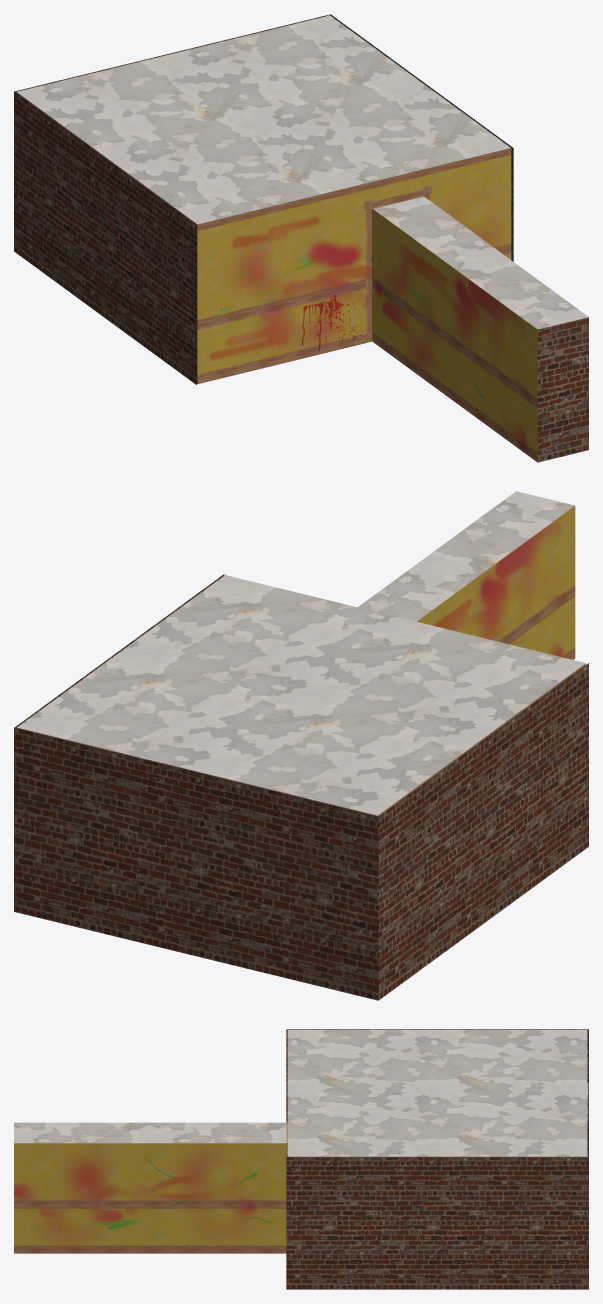
File: roomv.fbx
3 renders of one model, top to bottom at view 1: azimuth 30°, elevation 25°; view 2: azimuth 150°, elevation 25°; view 3: azimuth 270°, elevation 25°, orthographic. The views are drawn at different scales.
Visible parts, largest first — view 1: Material2, Material2.002, Material2.003, Material3.003; view 2: Material2.002, Material2, Material3.003; view 3: Material2, Material2.002, Material3.004, Material3.003.
Boxes of the visible parts, bbox=[...] form: Material2: bbox=[17, 15, 588, 329]; Material2.002: bbox=[14, 14, 588, 462]; Material2.003: bbox=[197, 148, 511, 383]; Material3.003: bbox=[373, 209, 537, 462]; Material2.002: bbox=[14, 574, 588, 1000]; Material2: bbox=[17, 491, 585, 815]; Material3.003: bbox=[417, 506, 575, 659]; Material2: bbox=[14, 1030, 587, 1156]; Material2.002: bbox=[286, 1029, 588, 1289]; Material3.004: bbox=[14, 1143, 286, 1253]; Material3.003: bbox=[288, 1156, 586, 1157].
Size of the model in its own units: 622 by 300 by 1181.
11 materials, 7 textured.
